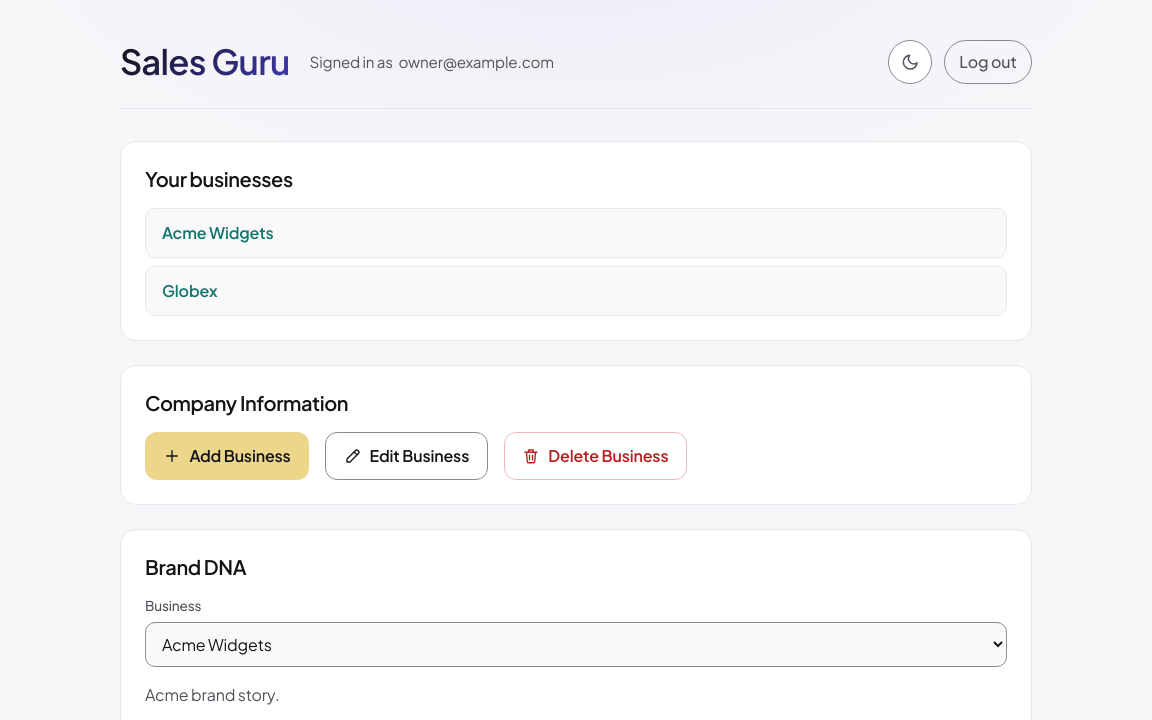
Test: DashboardPage › the Brand section › lets you pick which business when there are several, starting with the first
Expected: the text "Acme brand story." is shown, [145,684,279,705]
Select "Globex" in the dropdown labelled "Business" at (576,644), box [145,622,1007,667]
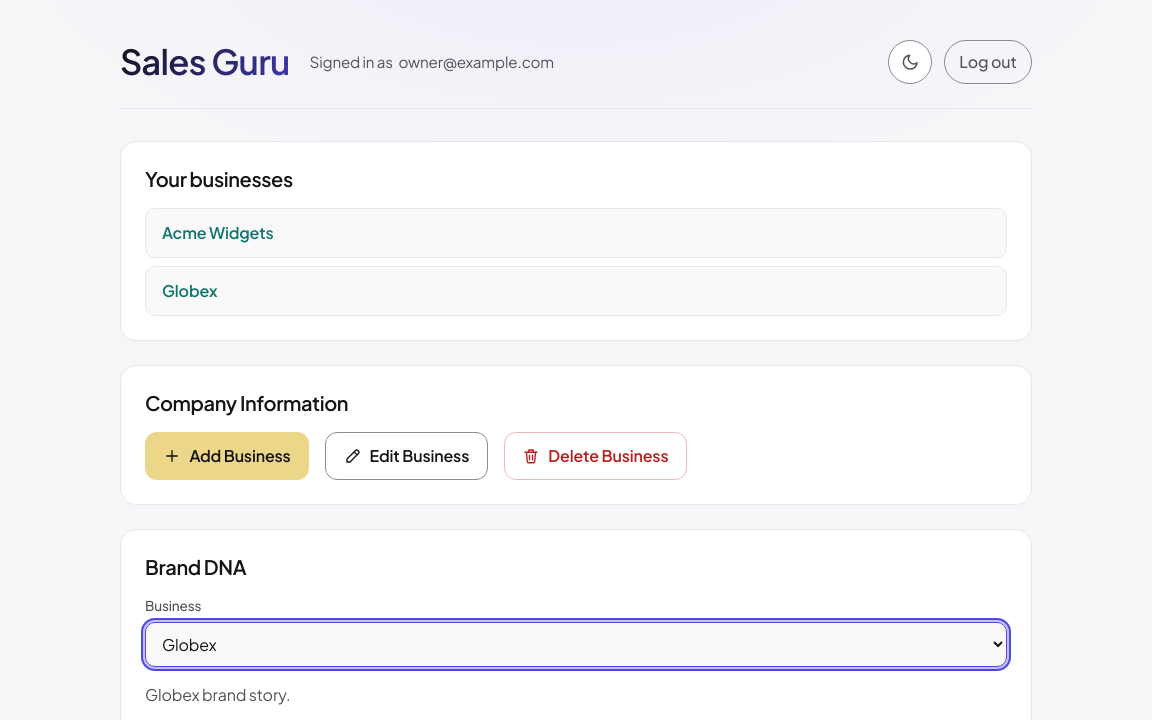
Now the text "Globex brand story." is shown, box [145,684,290,705]
Now the text "Acme brand story." is gone
